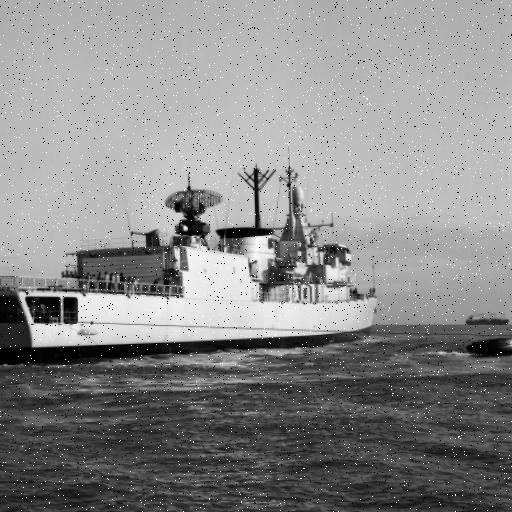Fragata: (1, 142, 386, 363)
